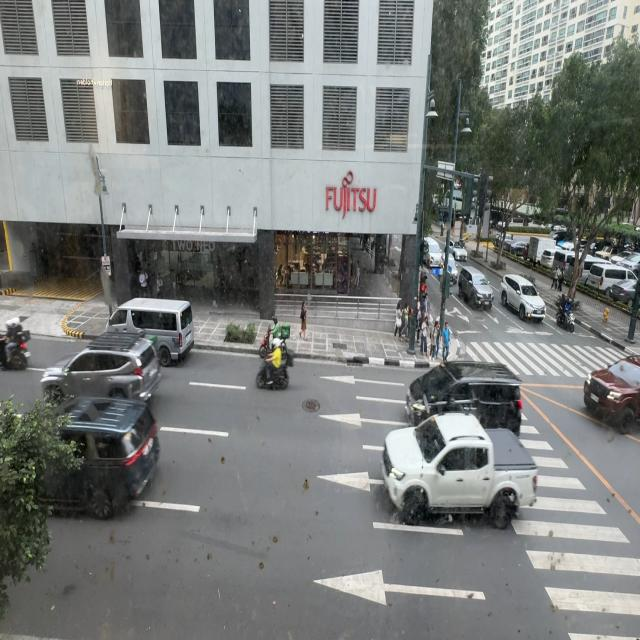pedestrain: (299, 300, 308, 342), (399, 304, 409, 340), (156, 272, 164, 297), (556, 266, 563, 290), (355, 260, 360, 288)
waiting: (441, 322, 451, 362), (419, 318, 428, 356), (433, 323, 441, 360), (416, 300, 422, 336), (424, 292, 431, 322)
